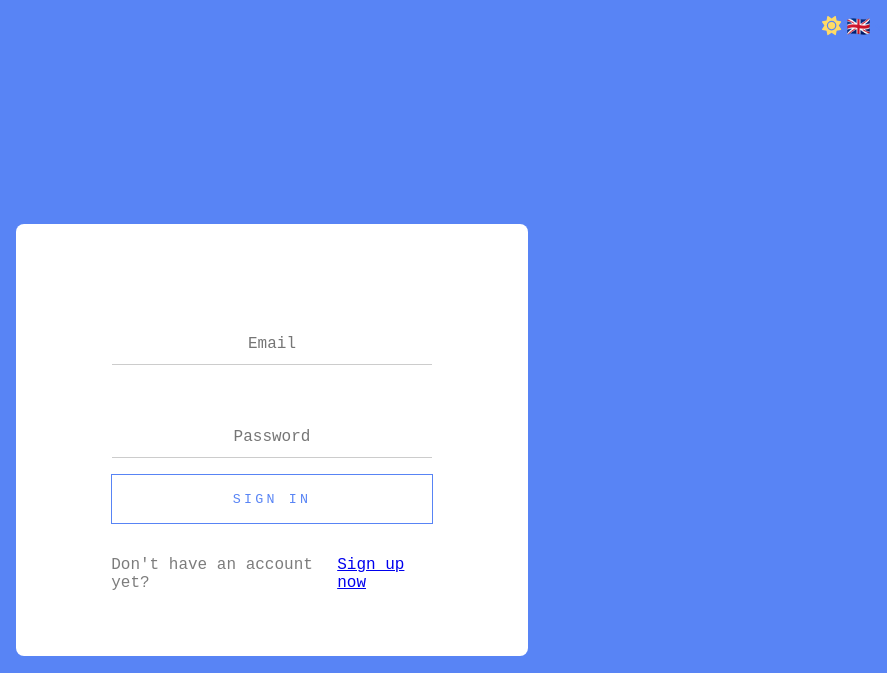
SignInPage › renders the email validation error
Type "test" into the field with placeholder "Email".
click(272, 344); type("test")  # box top-left (112, 324), bottom-right (432, 365)
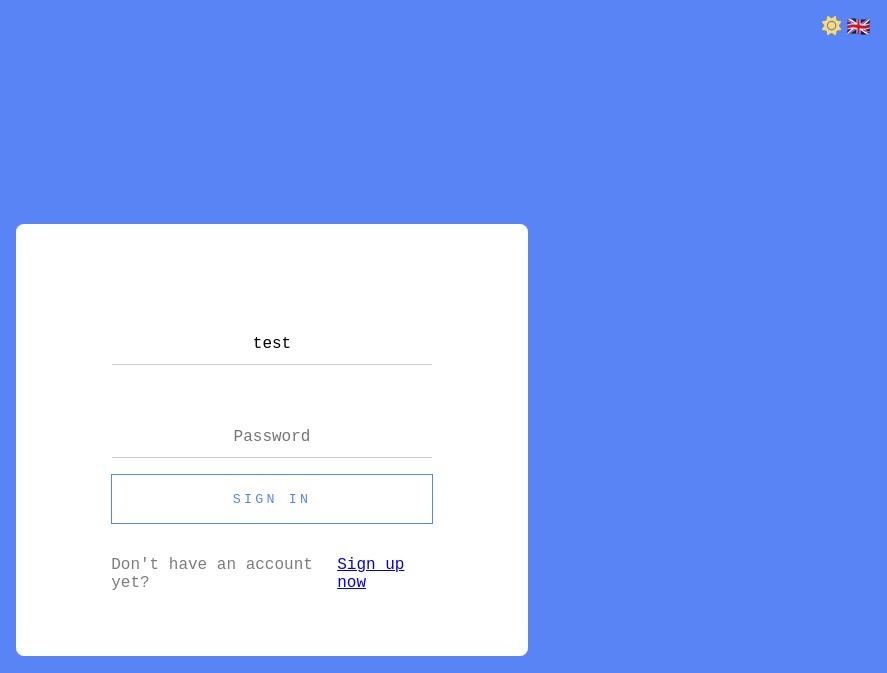
Clear the field with placeholder "Email" at [272, 344], box top-left (112, 324), bottom-right (432, 365)
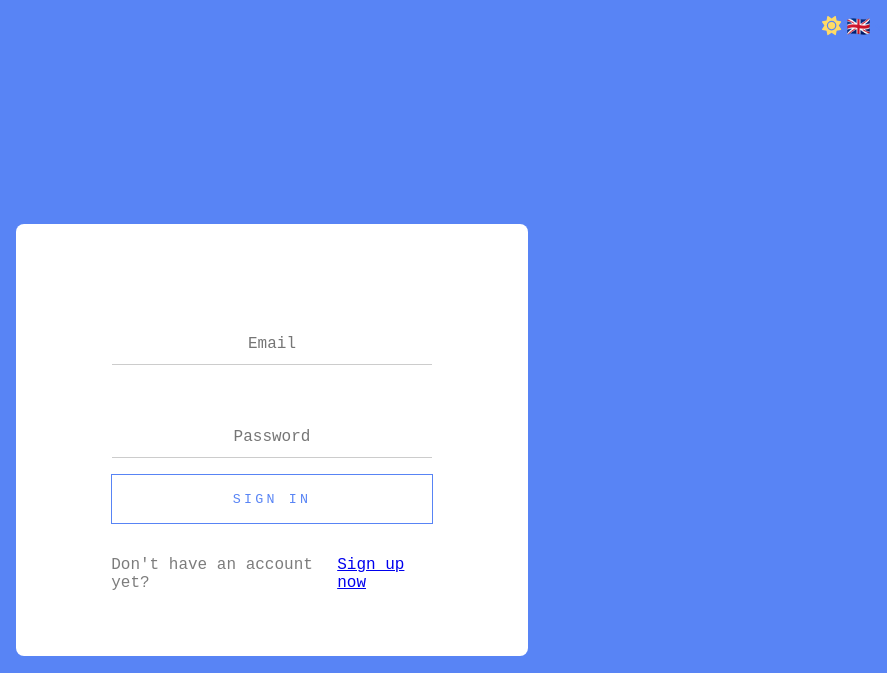
Leave the field with placeholder "Email", box top-left (112, 324), bottom-right (432, 365)
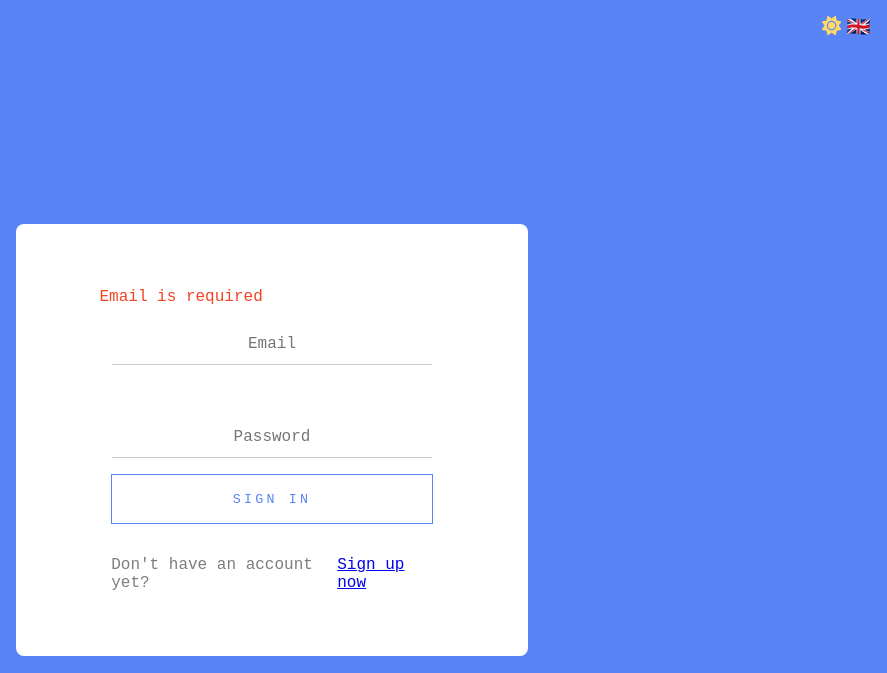
Result: the text "Email is required" is shown at top-left (100, 288), bottom-right (263, 306)
